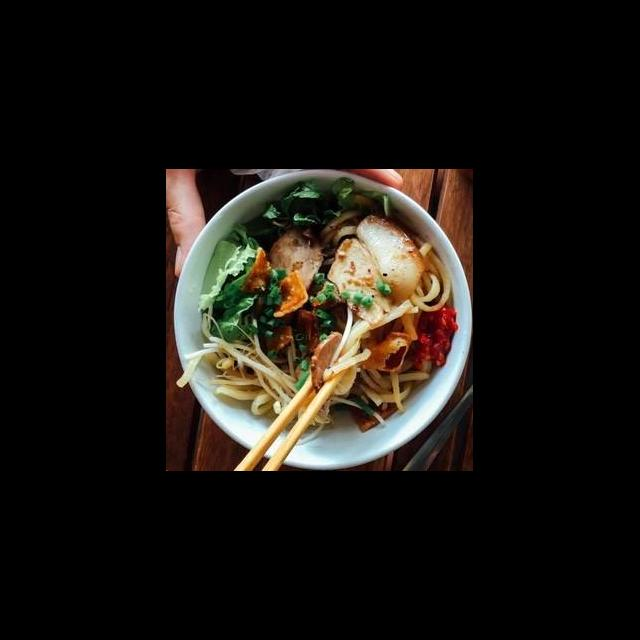banh da: (358, 328, 414, 375), (238, 243, 280, 298), (270, 268, 312, 320)
mi: (400, 231, 454, 343), (351, 353, 438, 416), (212, 372, 278, 419)
mi quang: (181, 186, 474, 461)
thit heo: (322, 210, 429, 329), (266, 221, 330, 299), (306, 330, 361, 403)
